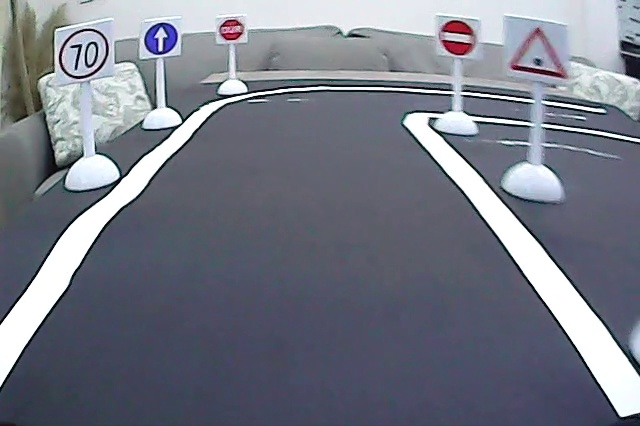do not enter: (437, 17, 479, 59)
green light: (505, 22, 571, 84)
speed limit 70: (56, 25, 112, 82)
stop sign: (218, 18, 246, 42)
